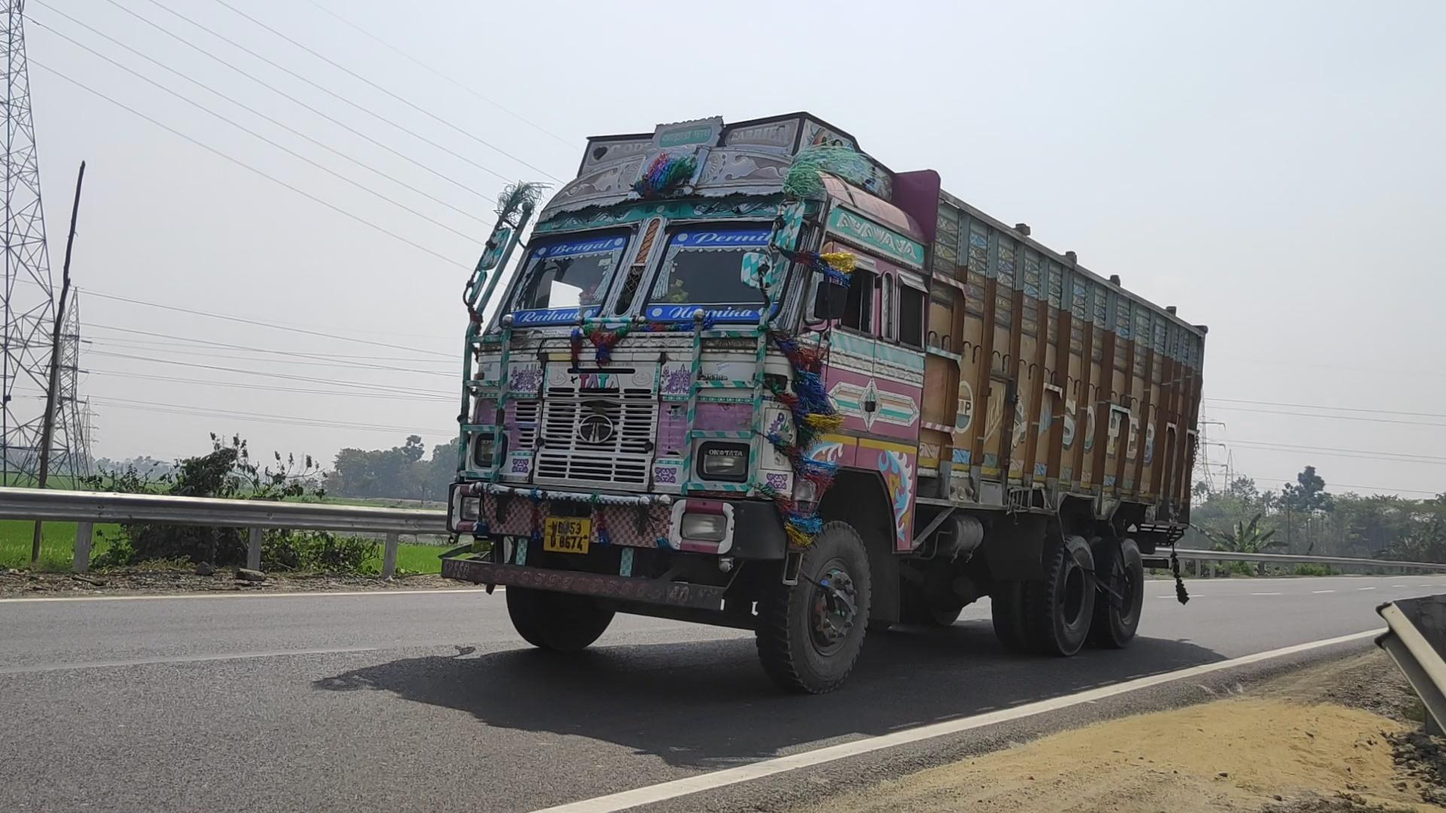truck: (438, 111, 1208, 696)
